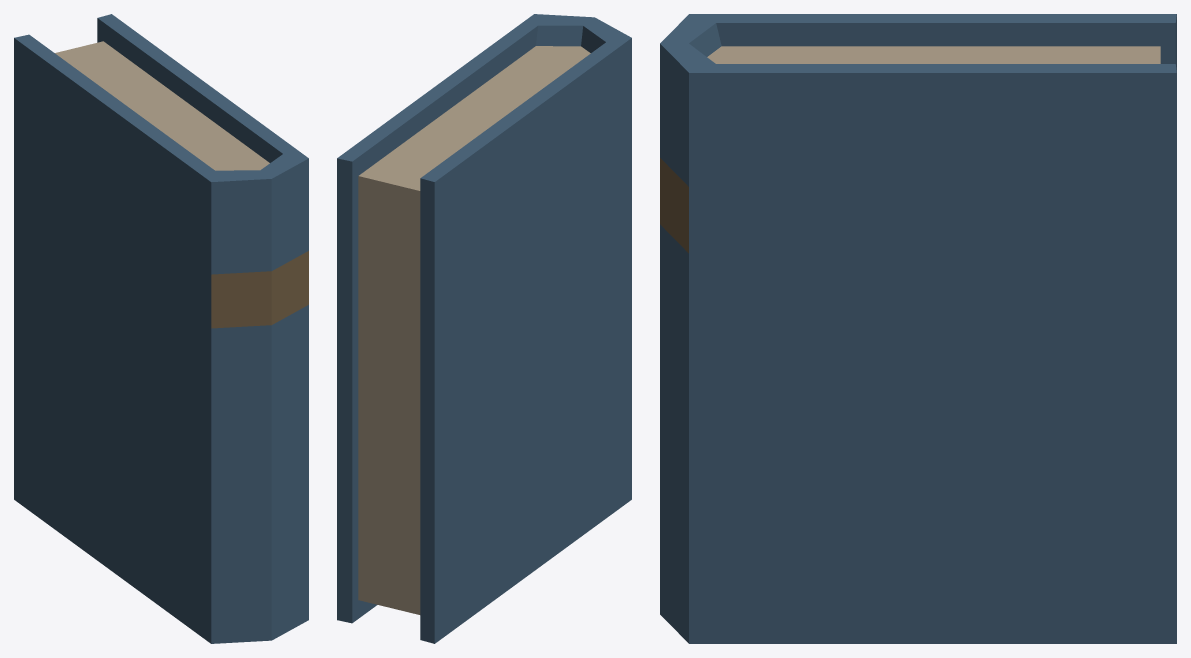
The model's file is guest_book.glb.
3 views of the same model, side by side, from view 1: azimuth 30°, elevation 25°; view 2: azimuth 150°, elevation 25°; view 3: azimuth 270°, elevation 25° (orthographic). The views are drawn at different scales.
Parts seen in each view (by area): view 1: SM_Item_Book_01_143; view 2: SM_Item_Book_01_143; view 3: SM_Item_Book_01_143.
Boxes of the visible parts, x1,y1,x2,y2 form: SM_Item_Book_01_143: (14, 14, 308, 643); SM_Item_Book_01_143: (337, 14, 631, 643); SM_Item_Book_01_143: (660, 14, 1176, 643).
Size of the model in its own units: 0.0639 by 0.2884 by 0.2365.
Materials: 1 (1 with a texture image).
